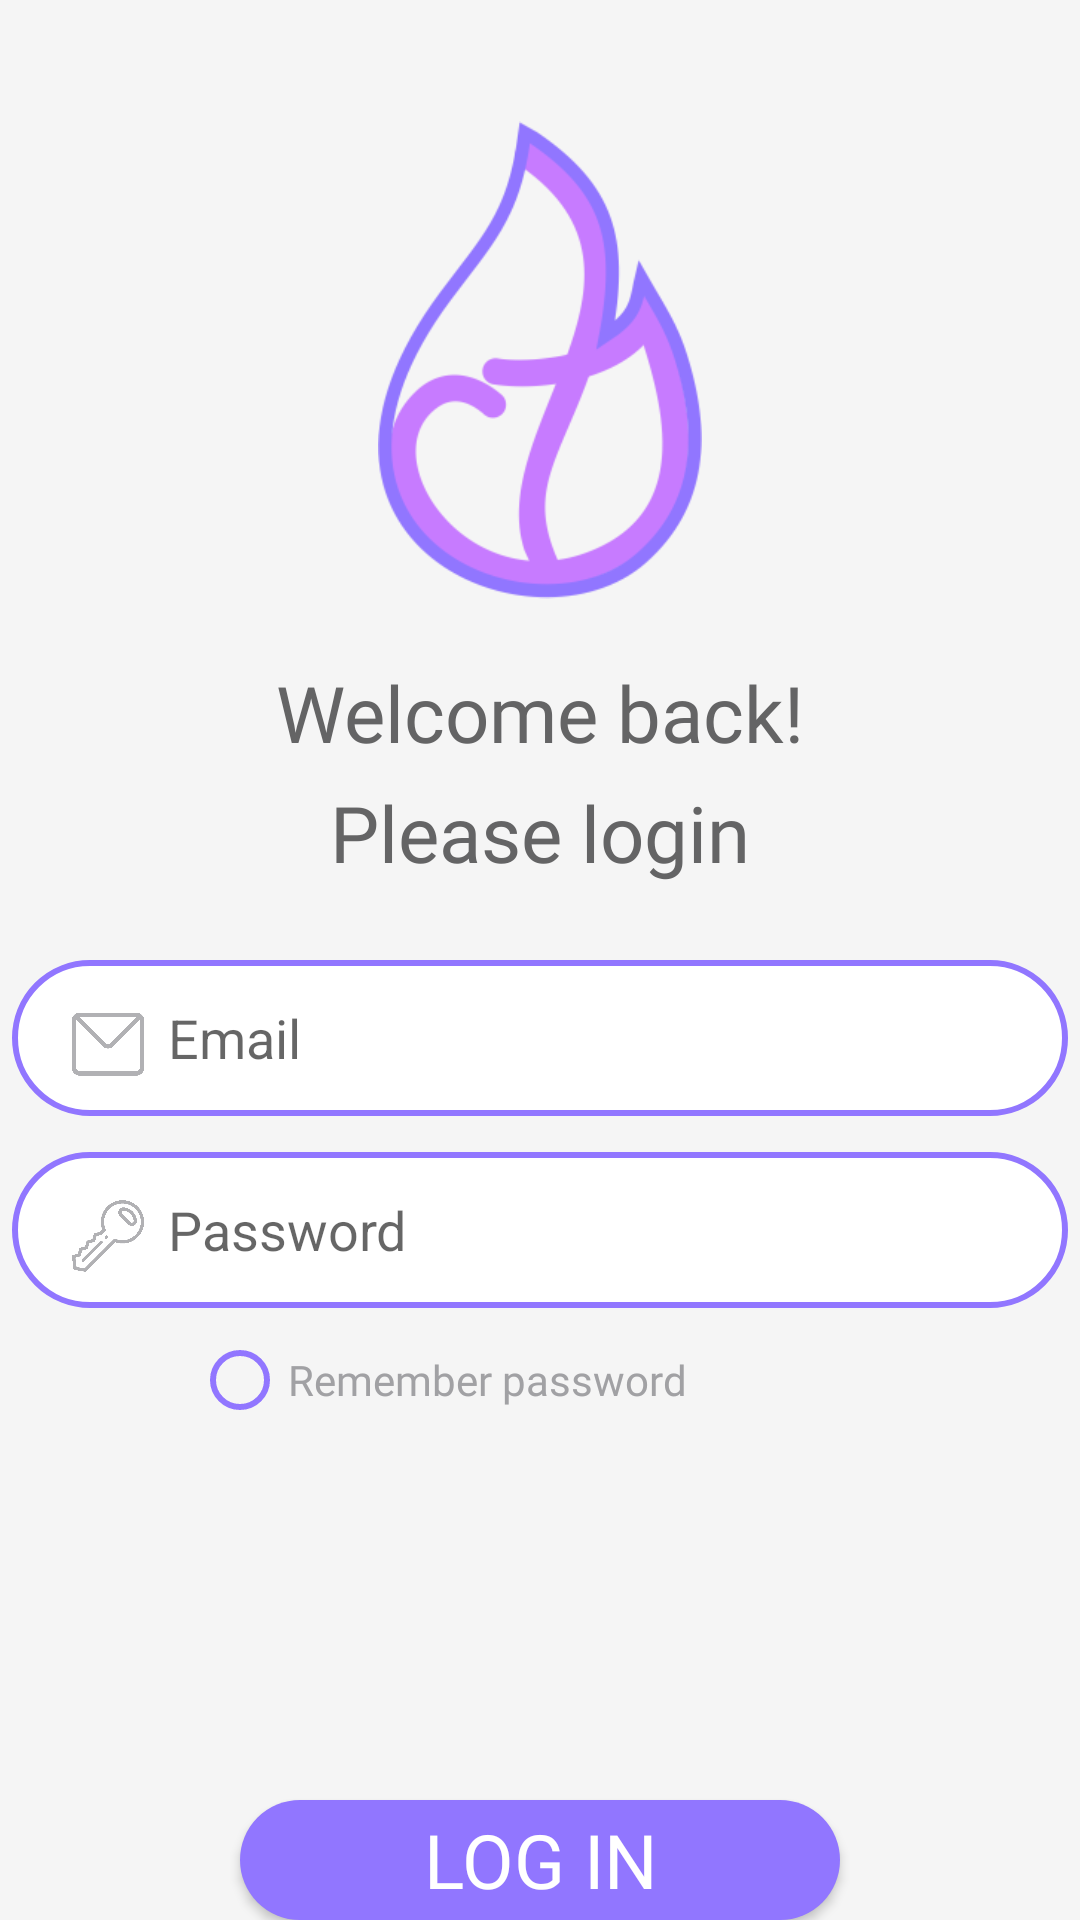

Locate icon controls on the screen. Image size 1080w x 1920h, boxes as (left=x1, top=y1, right=x2, bottom=y2).
key: (left=72, top=1200, right=144, bottom=1272)
message: (left=72, top=1013, right=144, bottom=1076)
